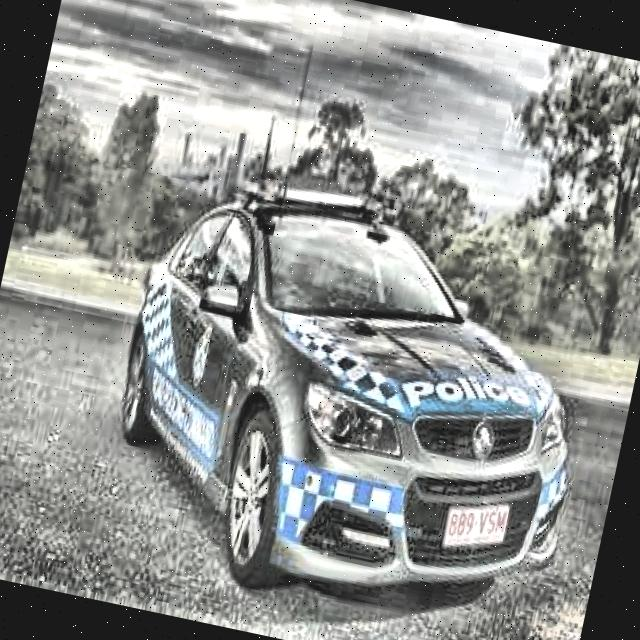license_plate: (443, 496, 511, 554)
